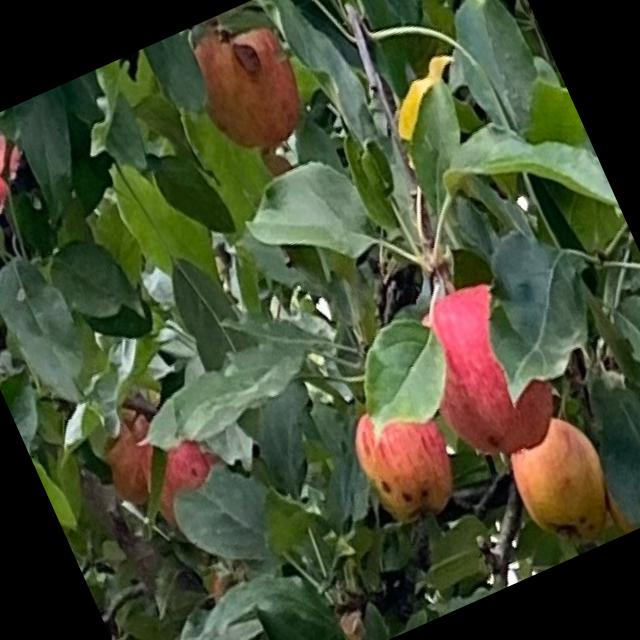Apples: (398, 272, 570, 475), (178, 4, 318, 162), (497, 408, 627, 559), (340, 386, 469, 530), (133, 425, 237, 535), (88, 402, 174, 506), (0, 130, 42, 221)
